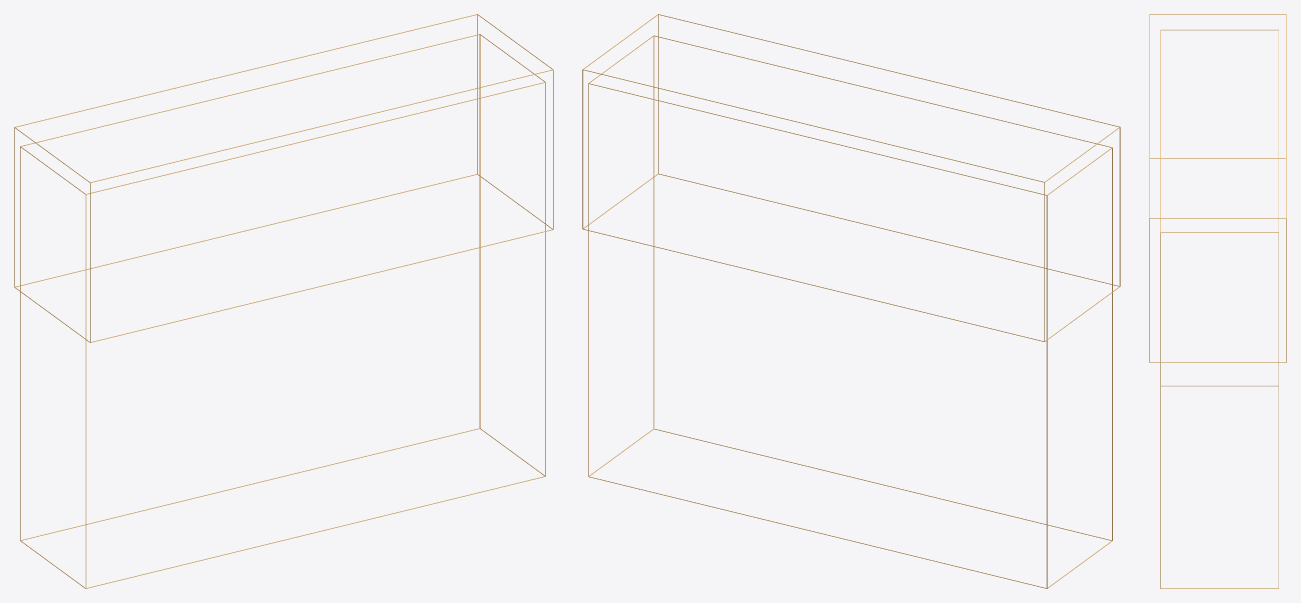
Rendered from paragliders.glb.
The picture shows the model from 3 angles, left to right: view 1: azimuth 30°, elevation 25°; view 2: azimuth 150°, elevation 25°; view 3: azimuth 270°, elevation 25°; orthographic projection. The views are drawn at different scales.
Visible parts, largest first — view 1: box_1, box_0; view 2: box_1, box_0; view 3: box_1, box_0.
Part boxes in pixels (box(x1,y1,x2,y2)): box_1: box(20, 34, 545, 588); box_0: box(14, 14, 553, 342); box_1: box(588, 35, 1112, 588); box_0: box(582, 14, 1120, 341); box_1: box(1160, 29, 1278, 588); box_0: box(1149, 14, 1286, 362).
Bounding box in the file's own units: 9.81 × 8.31 × 2.78.
